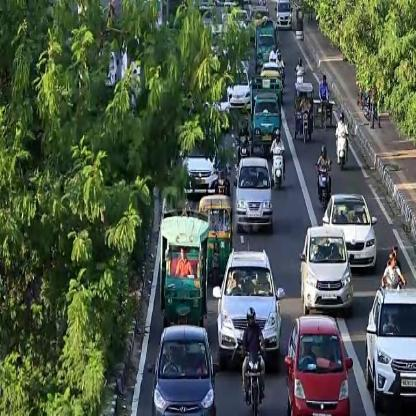auto-rikshaw: (159, 212, 209, 326)
bike: (242, 348, 264, 412), (294, 80, 314, 142), (314, 156, 332, 206), (270, 146, 286, 188), (294, 107, 310, 142), (334, 130, 348, 168)
car: (212, 246, 284, 366), (282, 312, 353, 414), (363, 284, 415, 412), (150, 322, 216, 414), (298, 224, 354, 316), (320, 190, 378, 274), (233, 154, 275, 236)
